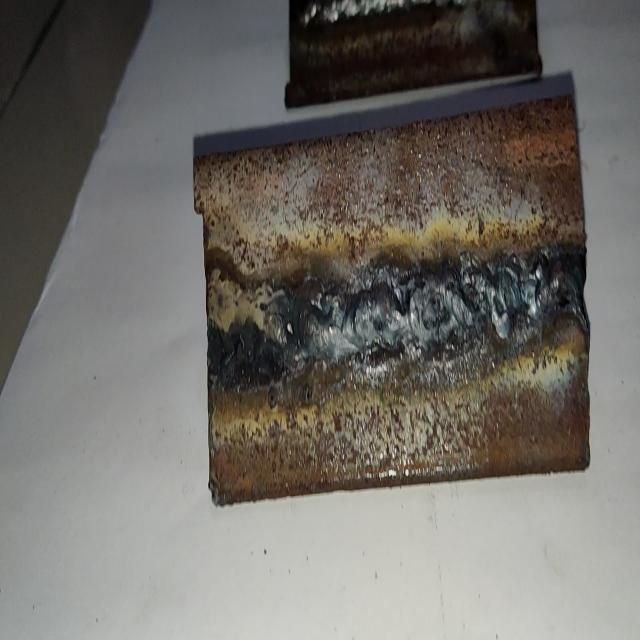Defect: (314, 250, 502, 368), (520, 224, 585, 352)
Welding Line: (296, 240, 584, 368)
Workpiece: (206, 90, 590, 512), (284, 0, 548, 109)
